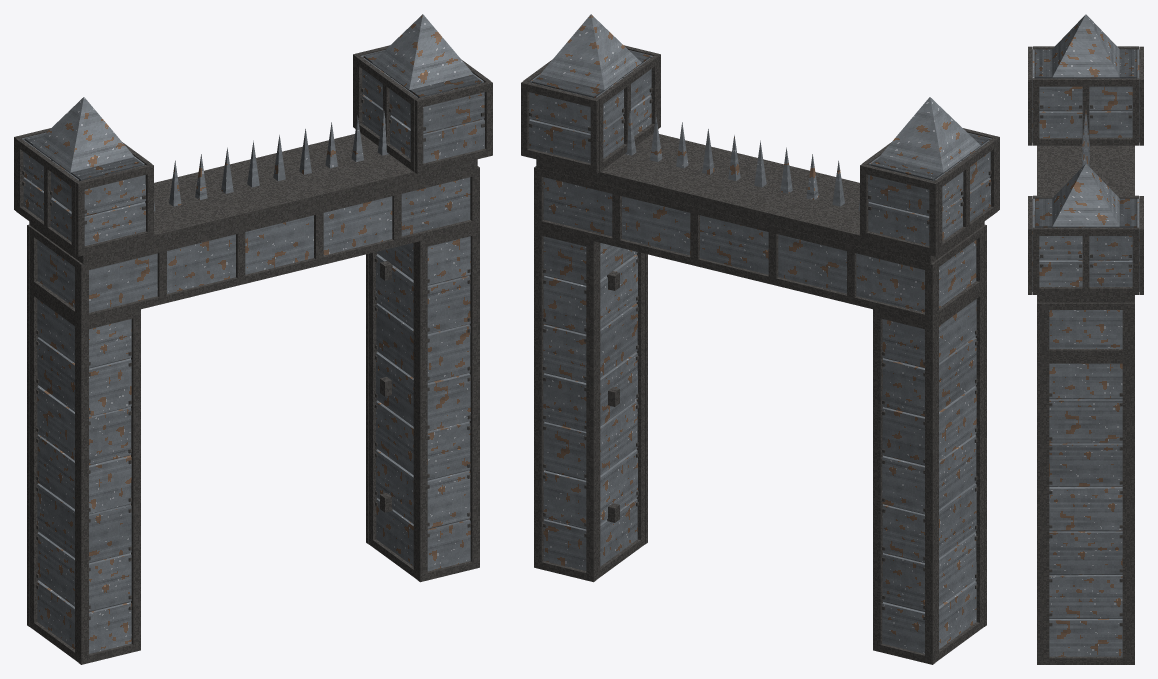
Rendered from portal_metal_gigante.glb.
The picture shows the model from 3 angles, left to right: view 1: azimuth 30°, elevation 25°; view 2: azimuth 150°, elevation 25°; view 3: azimuth 270°, elevation 25°; orthographic projection. The views are drawn at different scales.
Visible parts, largest first — view 1: portal_metal_gigante_metal, portal_metal_gigante_ferro; view 2: portal_metal_gigante_metal, portal_metal_gigante_ferro; view 3: portal_metal_gigante_metal, portal_metal_gigante_ferro.
Part boxes in pixels (<box>): portal_metal_gigante_metal: <box>22,14,484,653</box>; portal_metal_gigante_ferro: <box>14,45,492,664</box>; portal_metal_gigante_metal: <box>529,14,991,653</box>; portal_metal_gigante_ferro: <box>521,45,999,664</box>; portal_metal_gigante_metal: <box>1032,14,1139,656</box>; portal_metal_gigante_ferro: <box>1028,46,1143,664</box>.
Size of the model in its own units: 9.56 by 11.9 by 2.56.
Materials: 2 (2 with a texture image).
